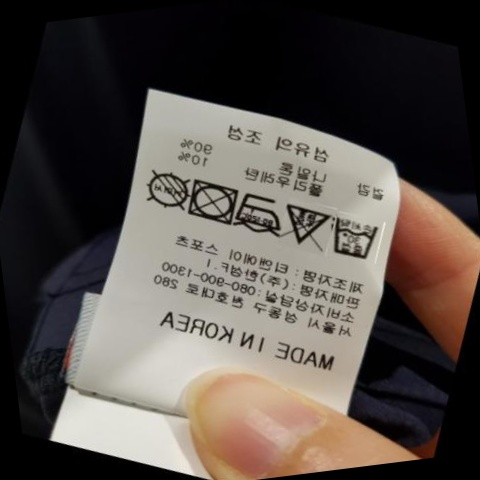DN_tumble_dry: (185, 174, 238, 233)
dry_flat_in_shade: (137, 161, 193, 221)
hand_wash: (327, 209, 381, 265)
iron_low: (230, 183, 282, 240)
non_chlorine_bleach: (281, 199, 330, 258)
